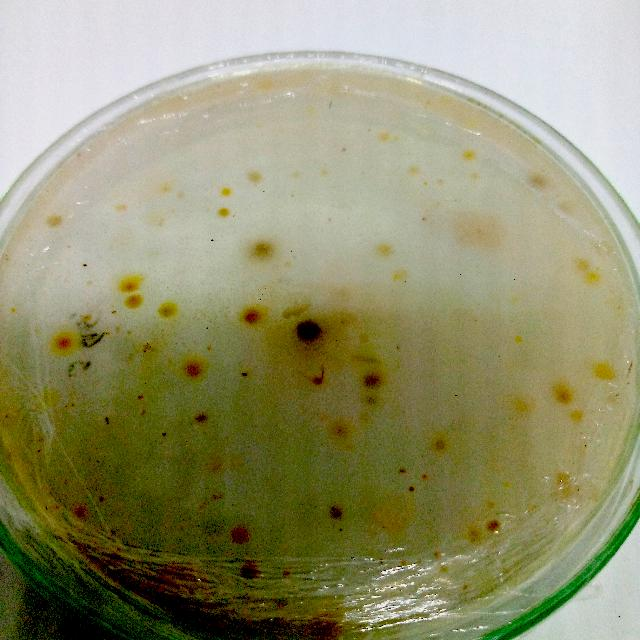colony: (448, 206, 502, 256), (303, 604, 349, 640), (244, 233, 282, 264), (592, 355, 624, 383), (562, 400, 590, 428), (294, 316, 324, 342), (525, 170, 553, 197), (578, 264, 604, 292), (178, 356, 206, 380), (359, 366, 387, 389), (326, 418, 352, 442), (155, 300, 179, 322), (573, 254, 597, 276), (554, 196, 578, 217), (240, 304, 262, 326), (240, 558, 260, 582), (373, 238, 397, 258), (52, 331, 74, 352), (552, 383, 576, 402), (70, 499, 90, 521), (228, 523, 250, 543), (374, 126, 396, 146), (430, 434, 450, 454), (458, 144, 478, 164), (390, 266, 410, 286), (242, 166, 264, 184), (123, 291, 145, 309), (119, 276, 141, 294), (483, 516, 505, 534), (192, 409, 212, 428), (364, 387, 384, 405), (326, 504, 346, 522), (404, 480, 422, 500), (45, 211, 63, 229), (466, 166, 486, 182), (154, 180, 172, 197), (214, 205, 232, 221), (112, 198, 128, 216), (430, 172, 448, 188), (216, 182, 232, 198), (464, 528, 482, 542), (403, 163, 422, 175), (312, 372, 326, 388), (236, 368, 250, 382), (157, 428, 171, 442), (106, 524, 118, 540), (316, 164, 328, 180), (336, 144, 352, 154), (134, 392, 146, 404), (95, 492, 105, 504)
